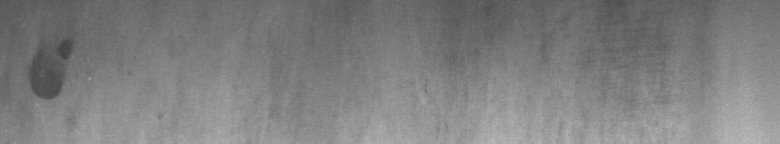fi: (27, 33, 162, 119)
